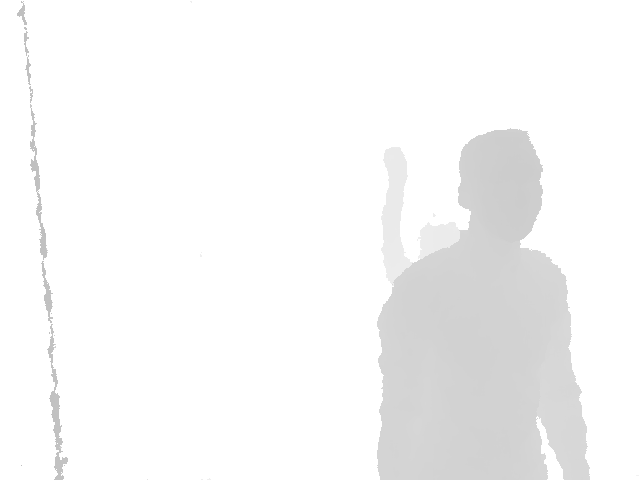hand: (382, 145, 409, 185)
head: (456, 128, 544, 245)
person: (374, 129, 591, 479), (382, 145, 458, 290)
